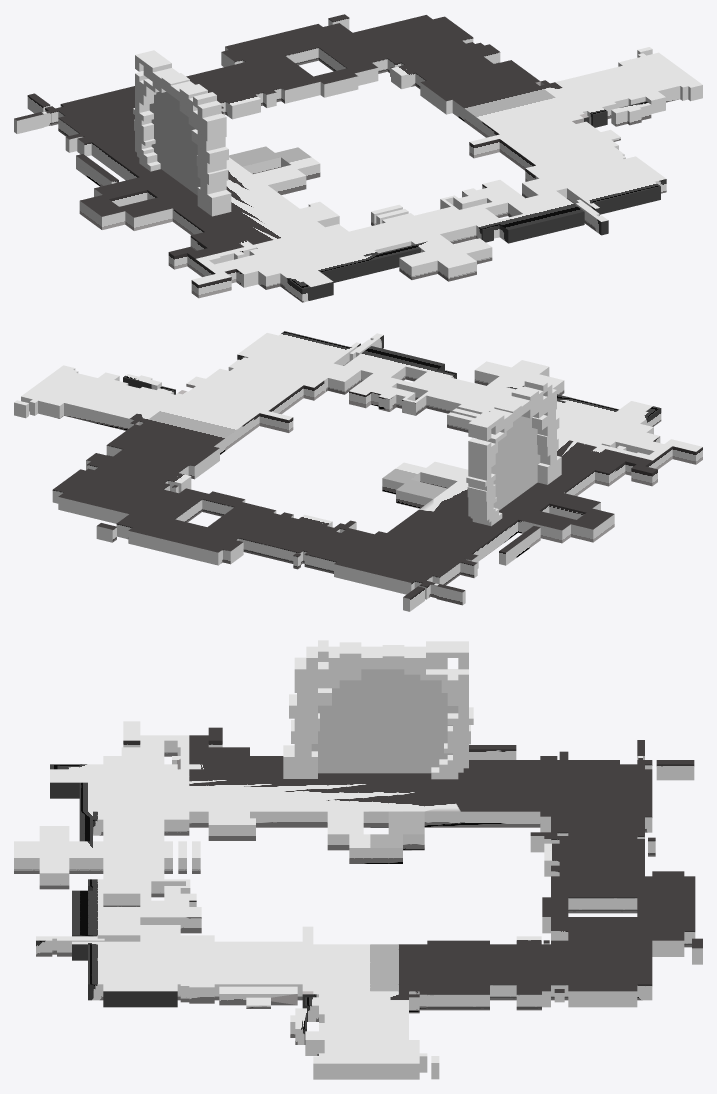
File: RPG.fbx
The picture shows the model from 3 angles, top to bottom: view 1: azimuth 30°, elevation 25°; view 2: azimuth 150°, elevation 25°; view 3: azimuth 270°, elevation 25°; orthographic projection. The views are drawn at different scales.
Parts seen in each view (by area): view 1: RPG Floor, ArkV2.001, Veil.003, RPG Floor.011, RPG Floor.007, RPG Floor.004, RPG Floor.012; view 2: RPG Floor, ArkV2.001, Veil.003, RPG Floor.007, RPG Floor.012; view 3: RPG Floor, Veil.003, ArkV2.001, RPG Floor.012, RPG Floor.004, RPG Floor.003, RPG Floor.007.
Part boxes in pixels (x1,y1,x2,y2): RPG Floor: (14, 15, 702, 302); ArkV2.001: (133, 50, 231, 216); Veil.003: (149, 91, 200, 195); RPG Floor.011: (611, 101, 651, 126); RPG Floor.007: (76, 154, 118, 186); RPG Floor.004: (575, 199, 608, 235); RPG Floor.012: (576, 121, 620, 149); RPG Floor: (21, 331, 702, 605); ArkV2.001: (466, 378, 561, 526); Veil.003: (491, 416, 540, 510); RPG Floor.007: (499, 526, 540, 565); RPG Floor.012: (186, 368, 229, 393); RPG Floor: (14, 721, 695, 1079); Veil.003: (311, 669, 458, 773); ArkV2.001: (283, 640, 473, 779); RPG Floor.012: (219, 986, 297, 1008); RPG Floor.004: (36, 936, 104, 956); RPG Floor.003: (656, 760, 694, 780); RPG Floor.007: (469, 745, 516, 759).
Bounding box in the file's own units: 7591 × 1482 × 6424.
